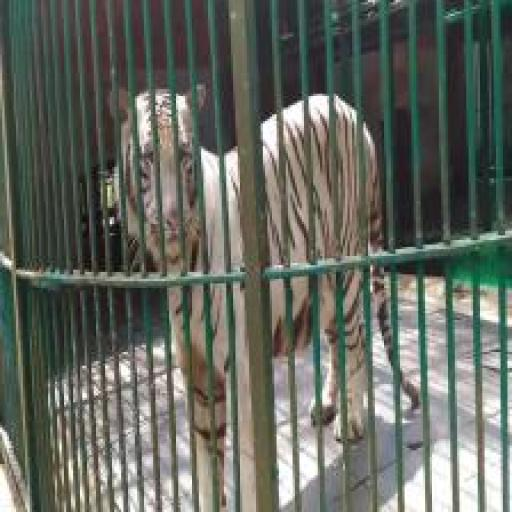Tiger: (94, 43, 439, 511)
